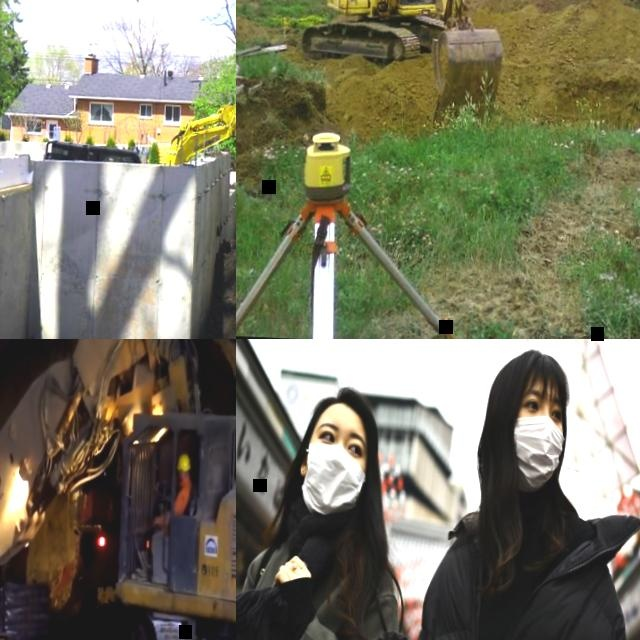Hardhat: (177, 454, 191, 471)
Mask: (300, 439, 369, 521), (509, 416, 568, 491)
NO-Hardhat: (481, 350, 568, 398), (313, 393, 380, 438)
NO-Mask: (179, 474, 183, 481)
NO-Safety Vest: (407, 521, 594, 640), (236, 523, 394, 640)
Person: (346, 339, 640, 640), (236, 375, 412, 640), (147, 450, 194, 570)
Safety Vest: (174, 477, 194, 516)
machinery: (0, 339, 236, 640), (297, 0, 515, 126), (162, 97, 236, 181)
vehicle: (43, 140, 142, 167)
